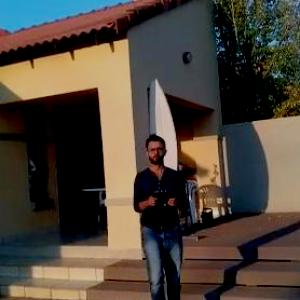follow: (129, 130, 193, 299)
